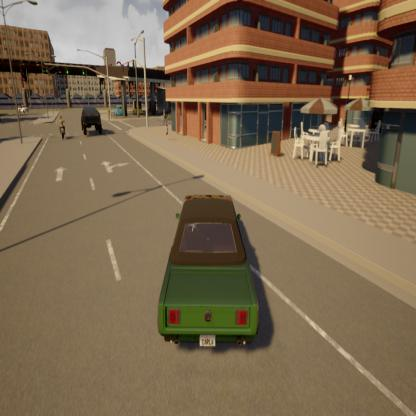Cars: (156, 193, 260, 352), (82, 108, 102, 136), (132, 95, 143, 118), (58, 113, 66, 141), (16, 102, 29, 114), (114, 104, 123, 114)
Pedestrian: (165, 119, 171, 134), (162, 108, 166, 125)
